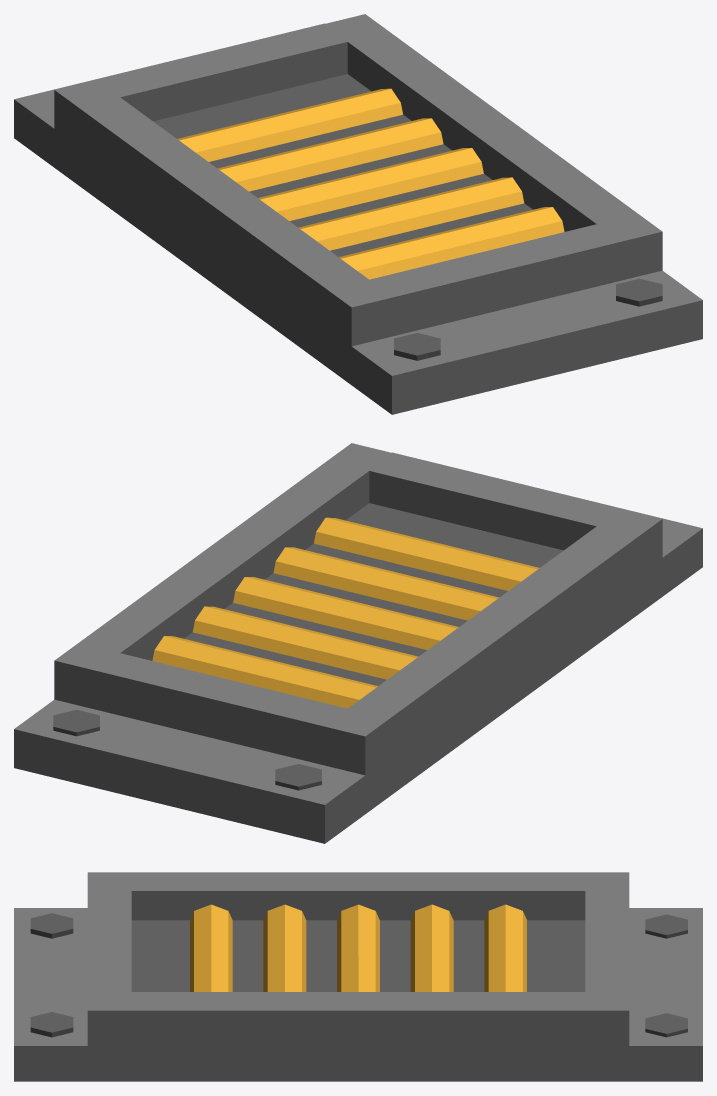
Rendered from AirVent_Exhaust_02.glb.
3 renders of one model, top to bottom at view 1: azimuth 30°, elevation 25°; view 2: azimuth 150°, elevation 25°; view 3: azimuth 270°, elevation 25°, orthographic. The views are drawn at different scales.
Visible parts, largest first — view 1: AirVent_Exhaust_02; view 2: AirVent_Exhaust_02; view 3: AirVent_Exhaust_02.
Boxes of the visible parts, x1=… form: AirVent_Exhaust_02: x1=14, y1=14, x2=702, y2=414; AirVent_Exhaust_02: x1=14, y1=443, x2=702, y2=843; AirVent_Exhaust_02: x1=14, y1=872, x2=702, y2=1081.
Size of what is drawn, in the model's own units: 0.3116 by 0.0746 by 0.6562.
Materials: 1 (1 with a texture image).
